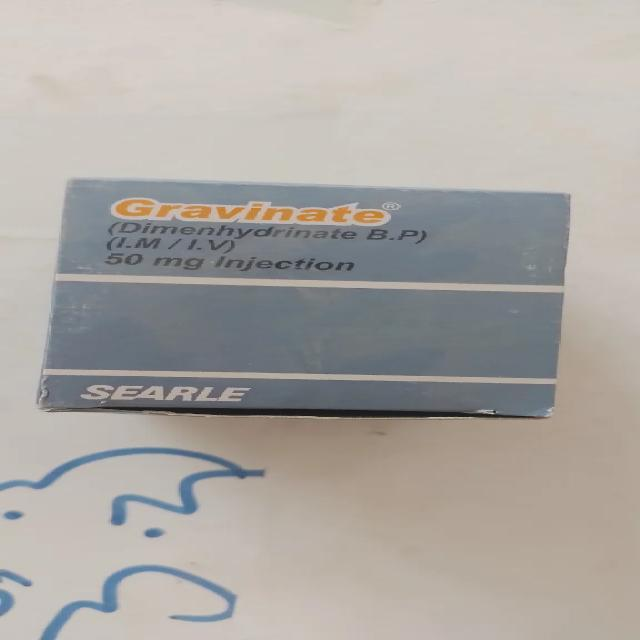drug-name: (106, 194, 404, 227)
